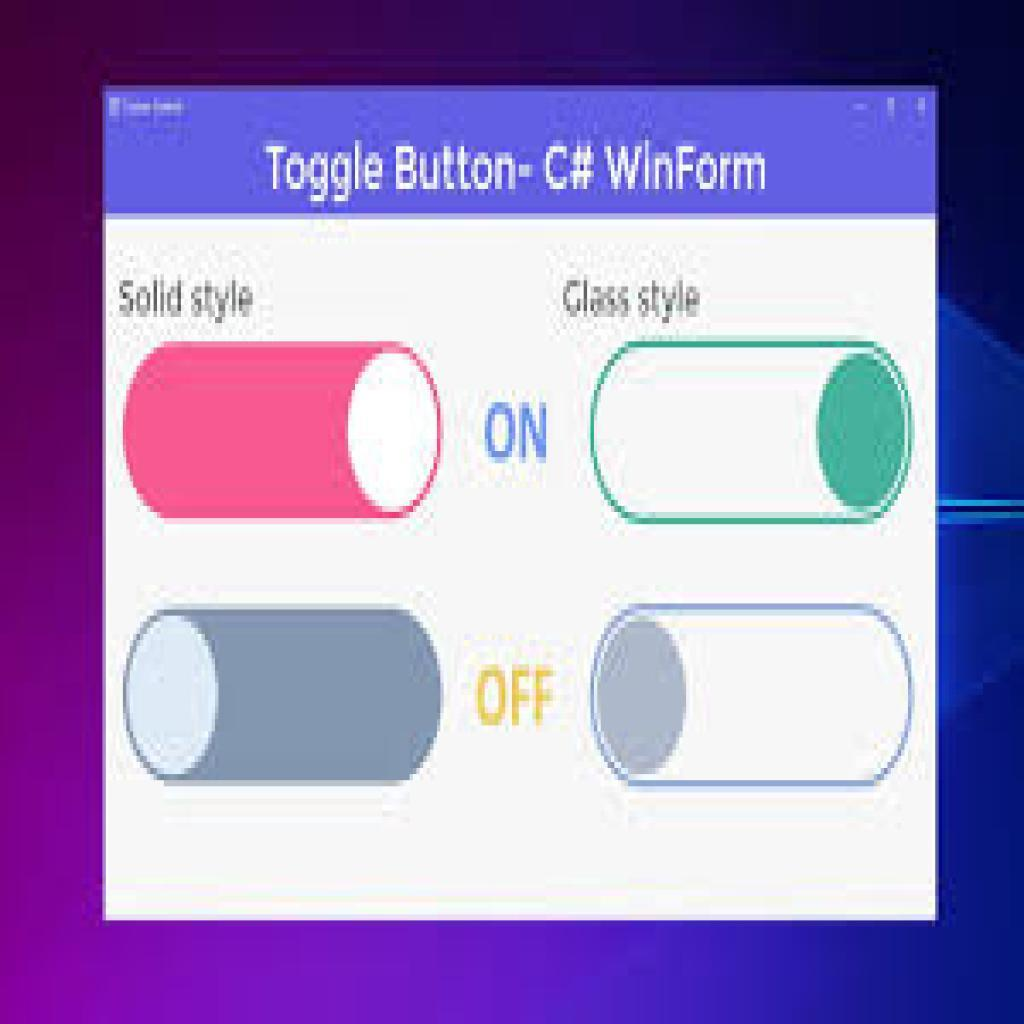switch: (586, 605, 917, 791), (592, 340, 917, 527), (125, 341, 445, 523), (126, 608, 443, 787)
